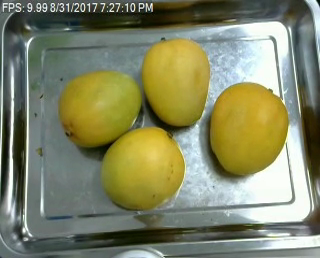Mango: (208, 82, 285, 174), (102, 127, 184, 211), (60, 72, 141, 148), (141, 38, 208, 125)
